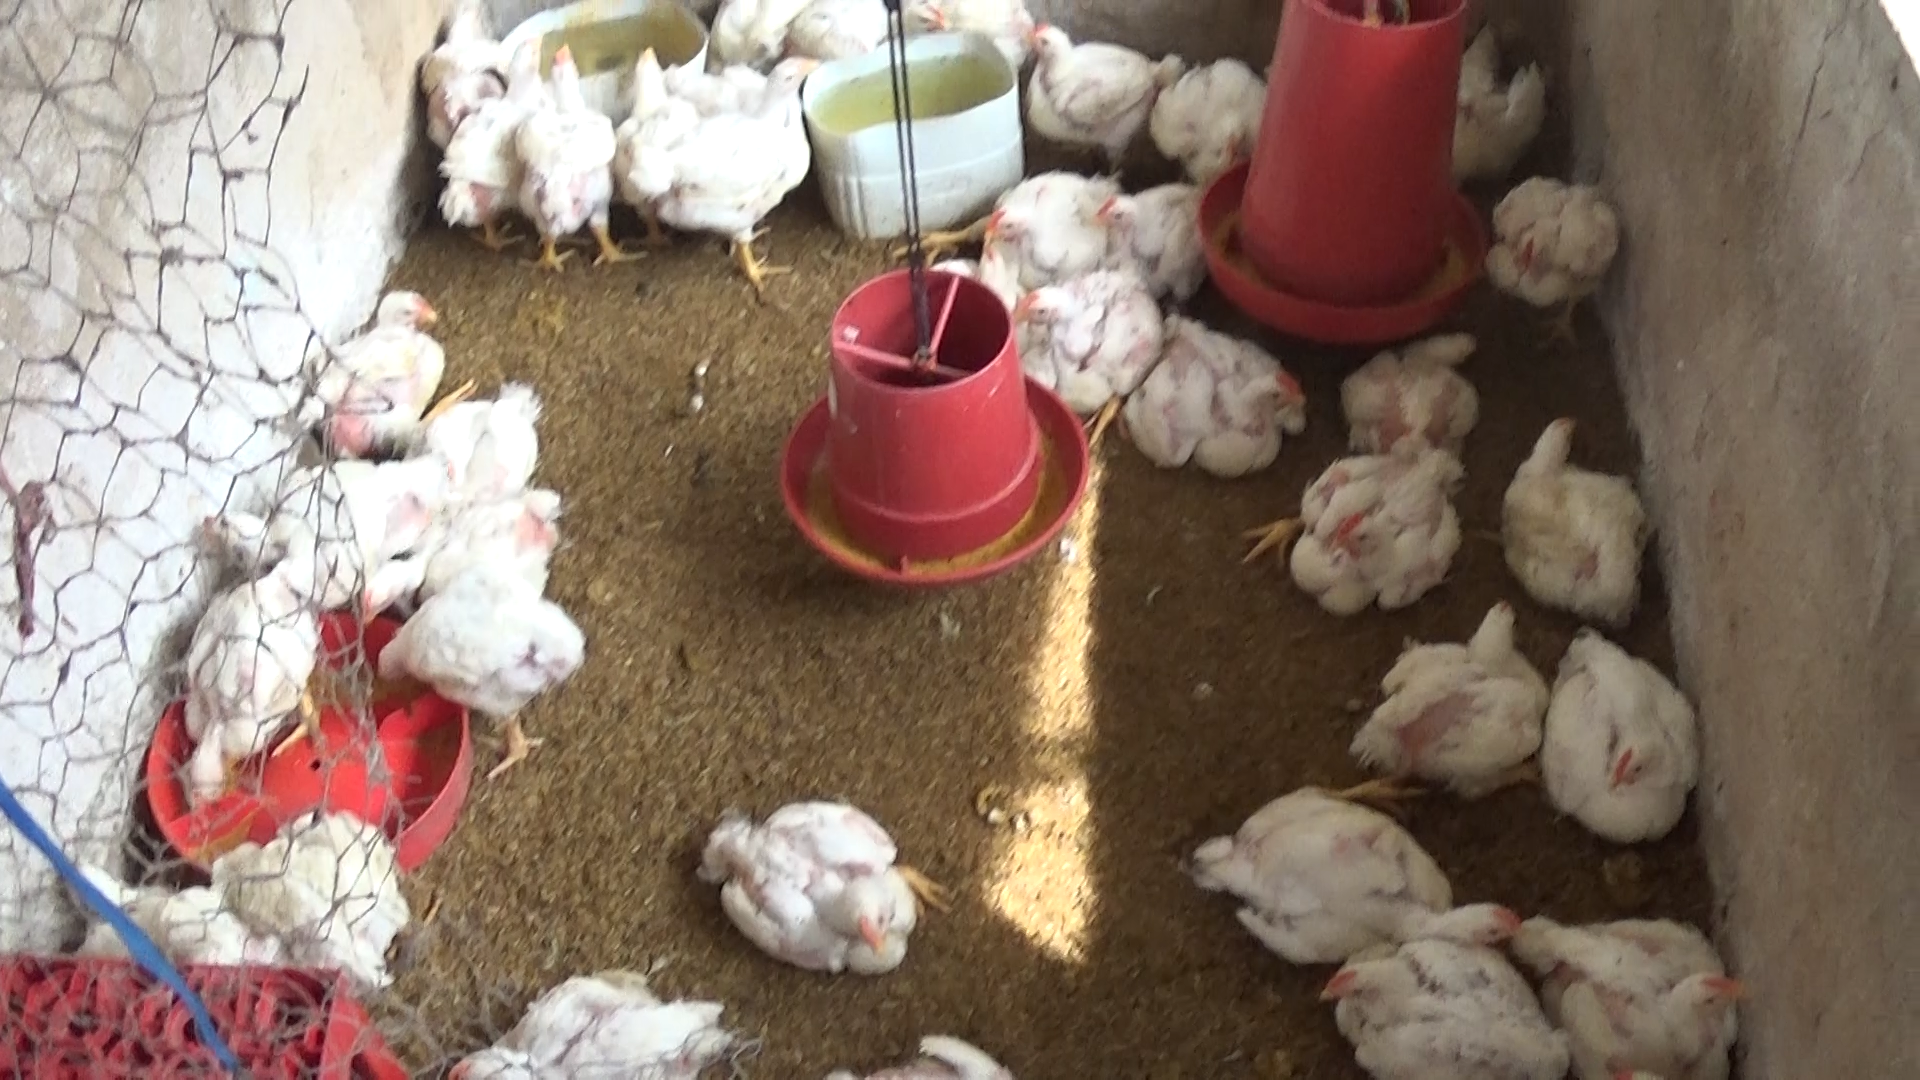Pollos: (1191, 781, 1513, 968), (645, 44, 829, 291), (698, 800, 924, 992), (1522, 880, 1745, 1069), (164, 567, 331, 803), (1282, 431, 1477, 632), (1313, 927, 1567, 1080), (429, 957, 738, 1080), (1495, 404, 1660, 632), (1354, 597, 1547, 785), (1540, 628, 1702, 848), (367, 588, 591, 727), (1139, 313, 1311, 479), (299, 284, 458, 447), (435, 40, 550, 265), (518, 44, 629, 276), (193, 480, 411, 593), (1006, 15, 1178, 153), (996, 273, 1160, 402), (1480, 169, 1617, 318), (1341, 328, 1486, 463), (977, 166, 1126, 291), (1440, 24, 1551, 187), (431, 483, 576, 599), (609, 41, 692, 243), (1151, 51, 1273, 189), (414, 0, 502, 178), (1084, 183, 1211, 301), (411, 390, 558, 488), (887, 0, 949, 42)
